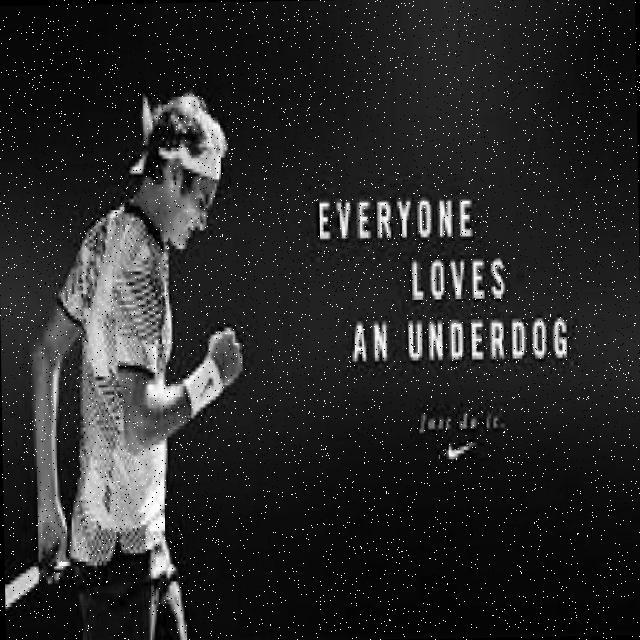Nike: (437, 434, 479, 461)
